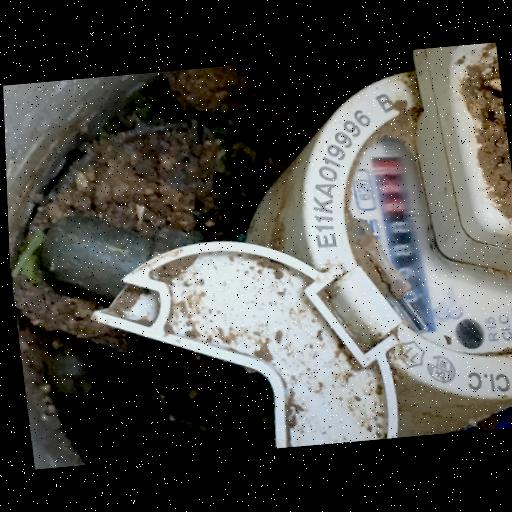0: (396, 287, 428, 306)
8: (389, 241, 417, 260), (386, 219, 415, 236)
9: (391, 263, 423, 283)
border_water_meter_number: (368, 152, 438, 338)
